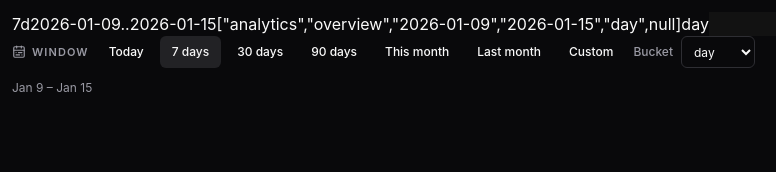
the window drives the URL and the query key › puts the bucket in the key and the request, not in the window
Select "week" in the dropdown labelled "Bucket" at (718, 52), box [681,36,755,68]
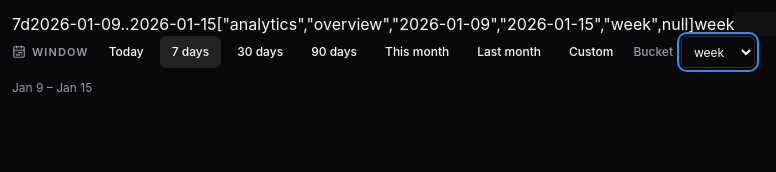
Check: the text with test id "range" reads "2026-01-09..2026-01-15", box [30,14,216,34]
Check: the text with test id "granularity" reads "week", box [694,14,735,34]
